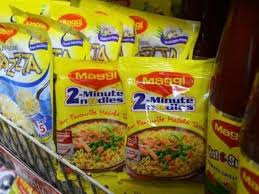maggi: (62, 68, 201, 178)
